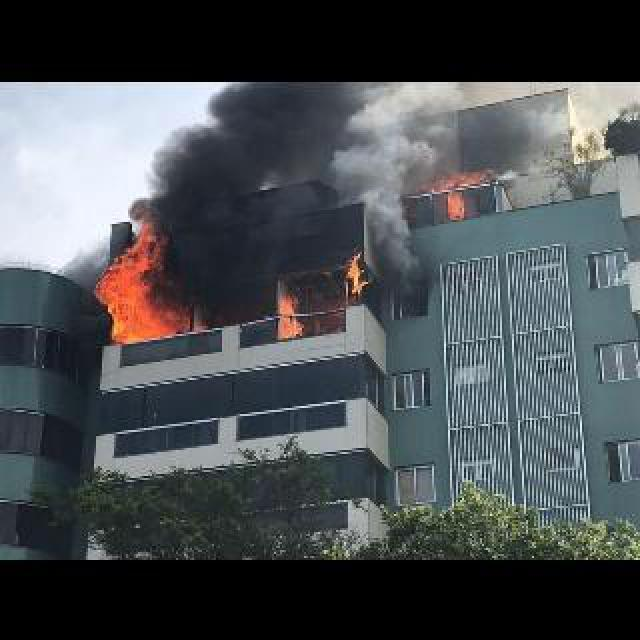Fire: (88, 234, 192, 336), (436, 178, 486, 216), (348, 254, 376, 292), (282, 296, 304, 332)
Smoke: (96, 80, 376, 244), (440, 80, 590, 180), (378, 82, 442, 304), (44, 246, 104, 334)
